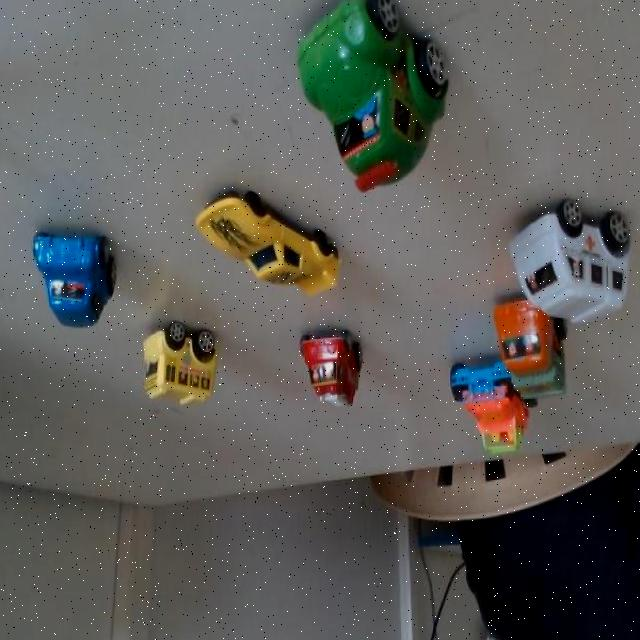car: (284, 0, 455, 192), (497, 179, 633, 345), (202, 182, 335, 305), (139, 309, 226, 409), (496, 291, 564, 410), (443, 361, 522, 462), (32, 226, 110, 328), (299, 314, 373, 420)
